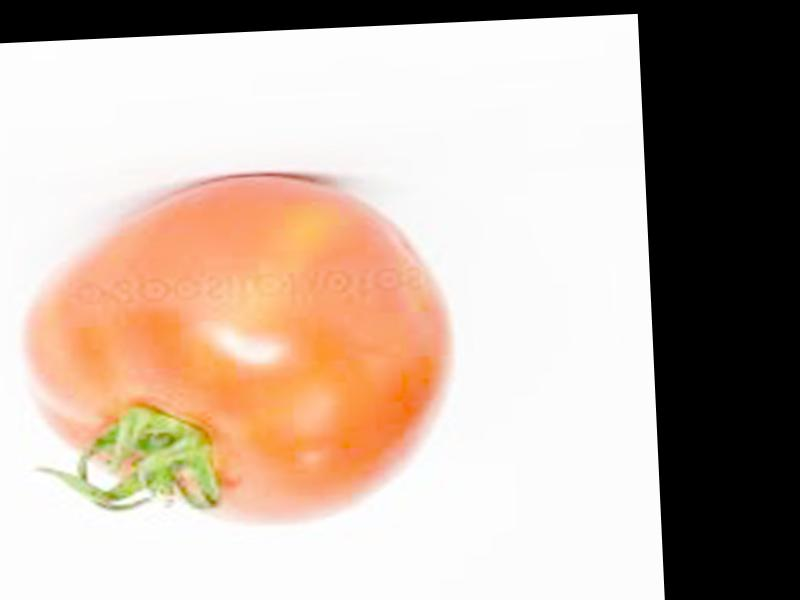Tomato: (16, 167, 459, 541)
